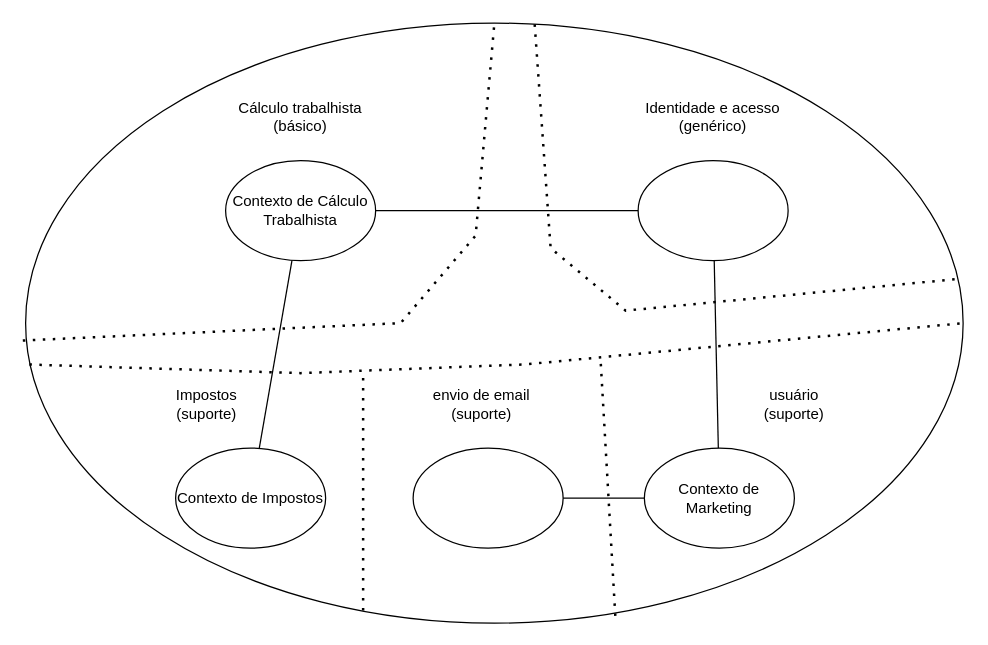
The diagram is 988 pixels wide and 645 high, and some of its shapes have lost their labels. The shapes that lost their labels are listed below. From the top down, each one's box as (x1, y1, x2, y2) in pixels, then its label:
(637, 159, 788, 261): Contexto de Identidade e Acesso
(412, 447, 563, 548): Contexto de Envio de Email
